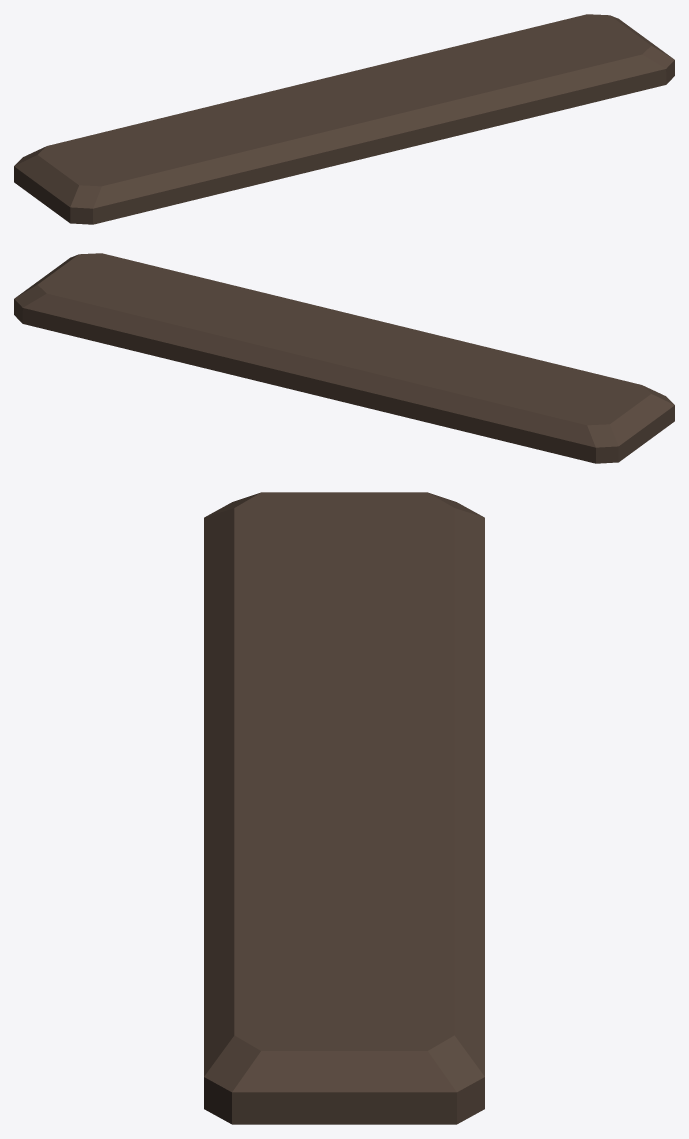
Rendered from Button.fbx.
3 renders of one model, top to bottom at view 1: azimuth 30°, elevation 25°; view 2: azimuth 150°, elevation 25°; view 3: azimuth 270°, elevation 25°, orthographic. The views are drawn at different scales.
Parts seen in each view (by area): view 1: Cube; view 2: Cube; view 3: Cube.
Part boxes in pixels (x1,y1,x2,y2): Cube: [14, 14, 674, 224]; Cube: [14, 253, 674, 463]; Cube: [204, 492, 484, 1124].
Size of the model in its own units: 1097 by 50 by 221.
